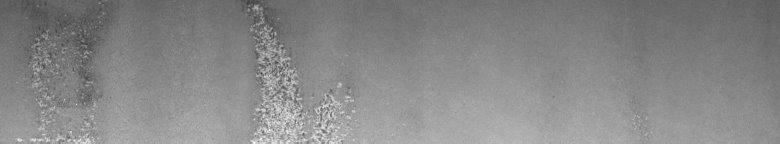hc: (242, 4, 356, 136)
